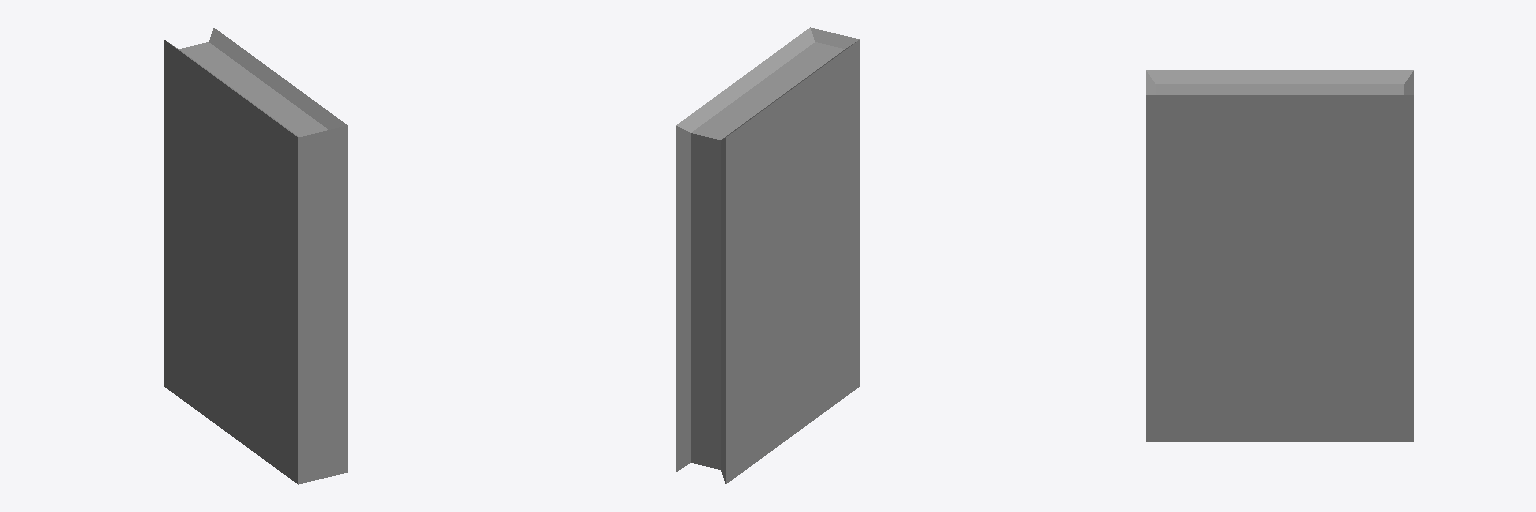
File: clutter_book_03.obj
The picture shows the model from 3 angles: view 1: azimuth 30°, elevation 25°; view 2: azimuth 150°, elevation 25°; view 3: azimuth 270°, elevation 25°; orthographic projection.
Parts seen in each view (by area): view 1: Cube; view 2: Cube; view 3: Cube.
Boxes of the visible parts, <box> form: Cube: <box>164,28,347,484</box>; Cube: <box>676,27,859,483</box>; Cube: <box>1146,70,1413,441</box>.
Size of the model in its own units: 0.15 by 1 by 0.7.